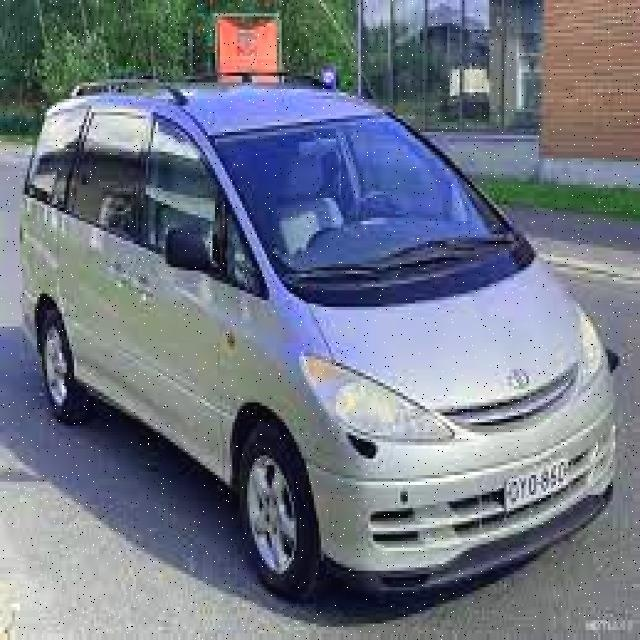Van: (30, 59, 628, 607)
